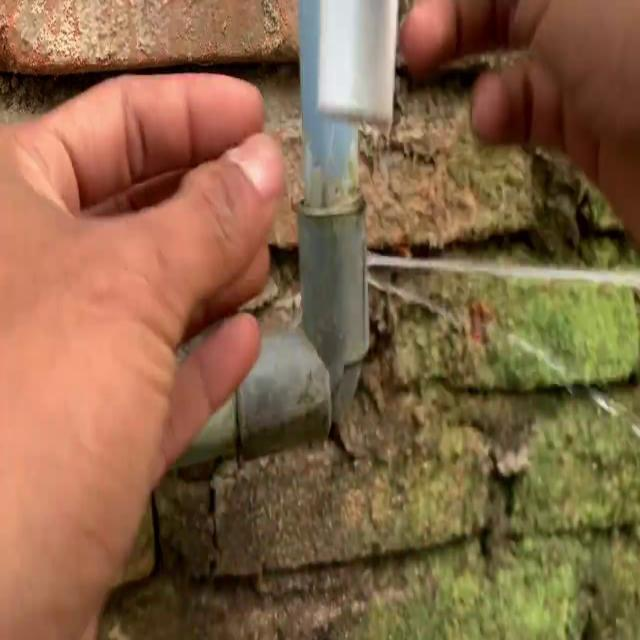leak: (365, 251, 640, 287)
